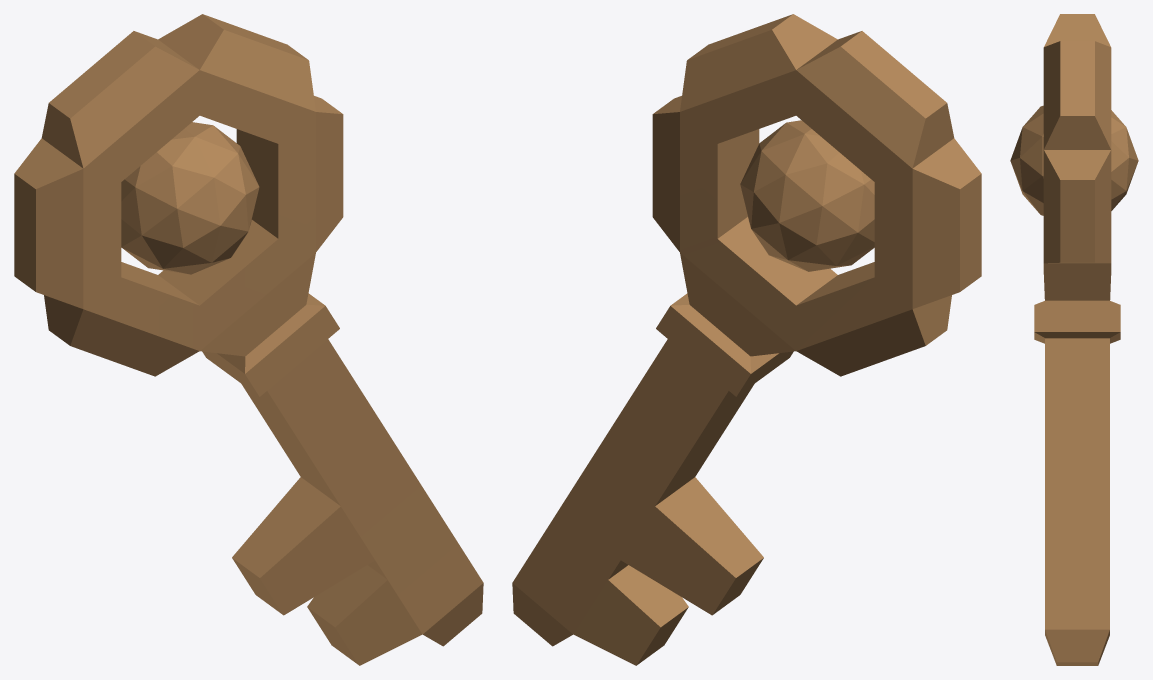
Rendered from towerKey4.fbx.
3 views of the same model, side by side, from view 1: azimuth 30°, elevation 25°; view 2: azimuth 150°, elevation 25°; view 3: azimuth 270°, elevation 25° (orthographic). The views are drawn at different scales.
Visible parts, largest first — view 1: towerKey4; view 2: towerKey4; view 3: towerKey4.
Boxes of the visible parts, <box> form: towerKey4: <box>14,14,483,665</box>; towerKey4: <box>512,14,981,665</box>; towerKey4: <box>1010,14,1138,665</box>.
Bounding box in the file's own units: 0.6671 × 0.9585 × 0.2067.
